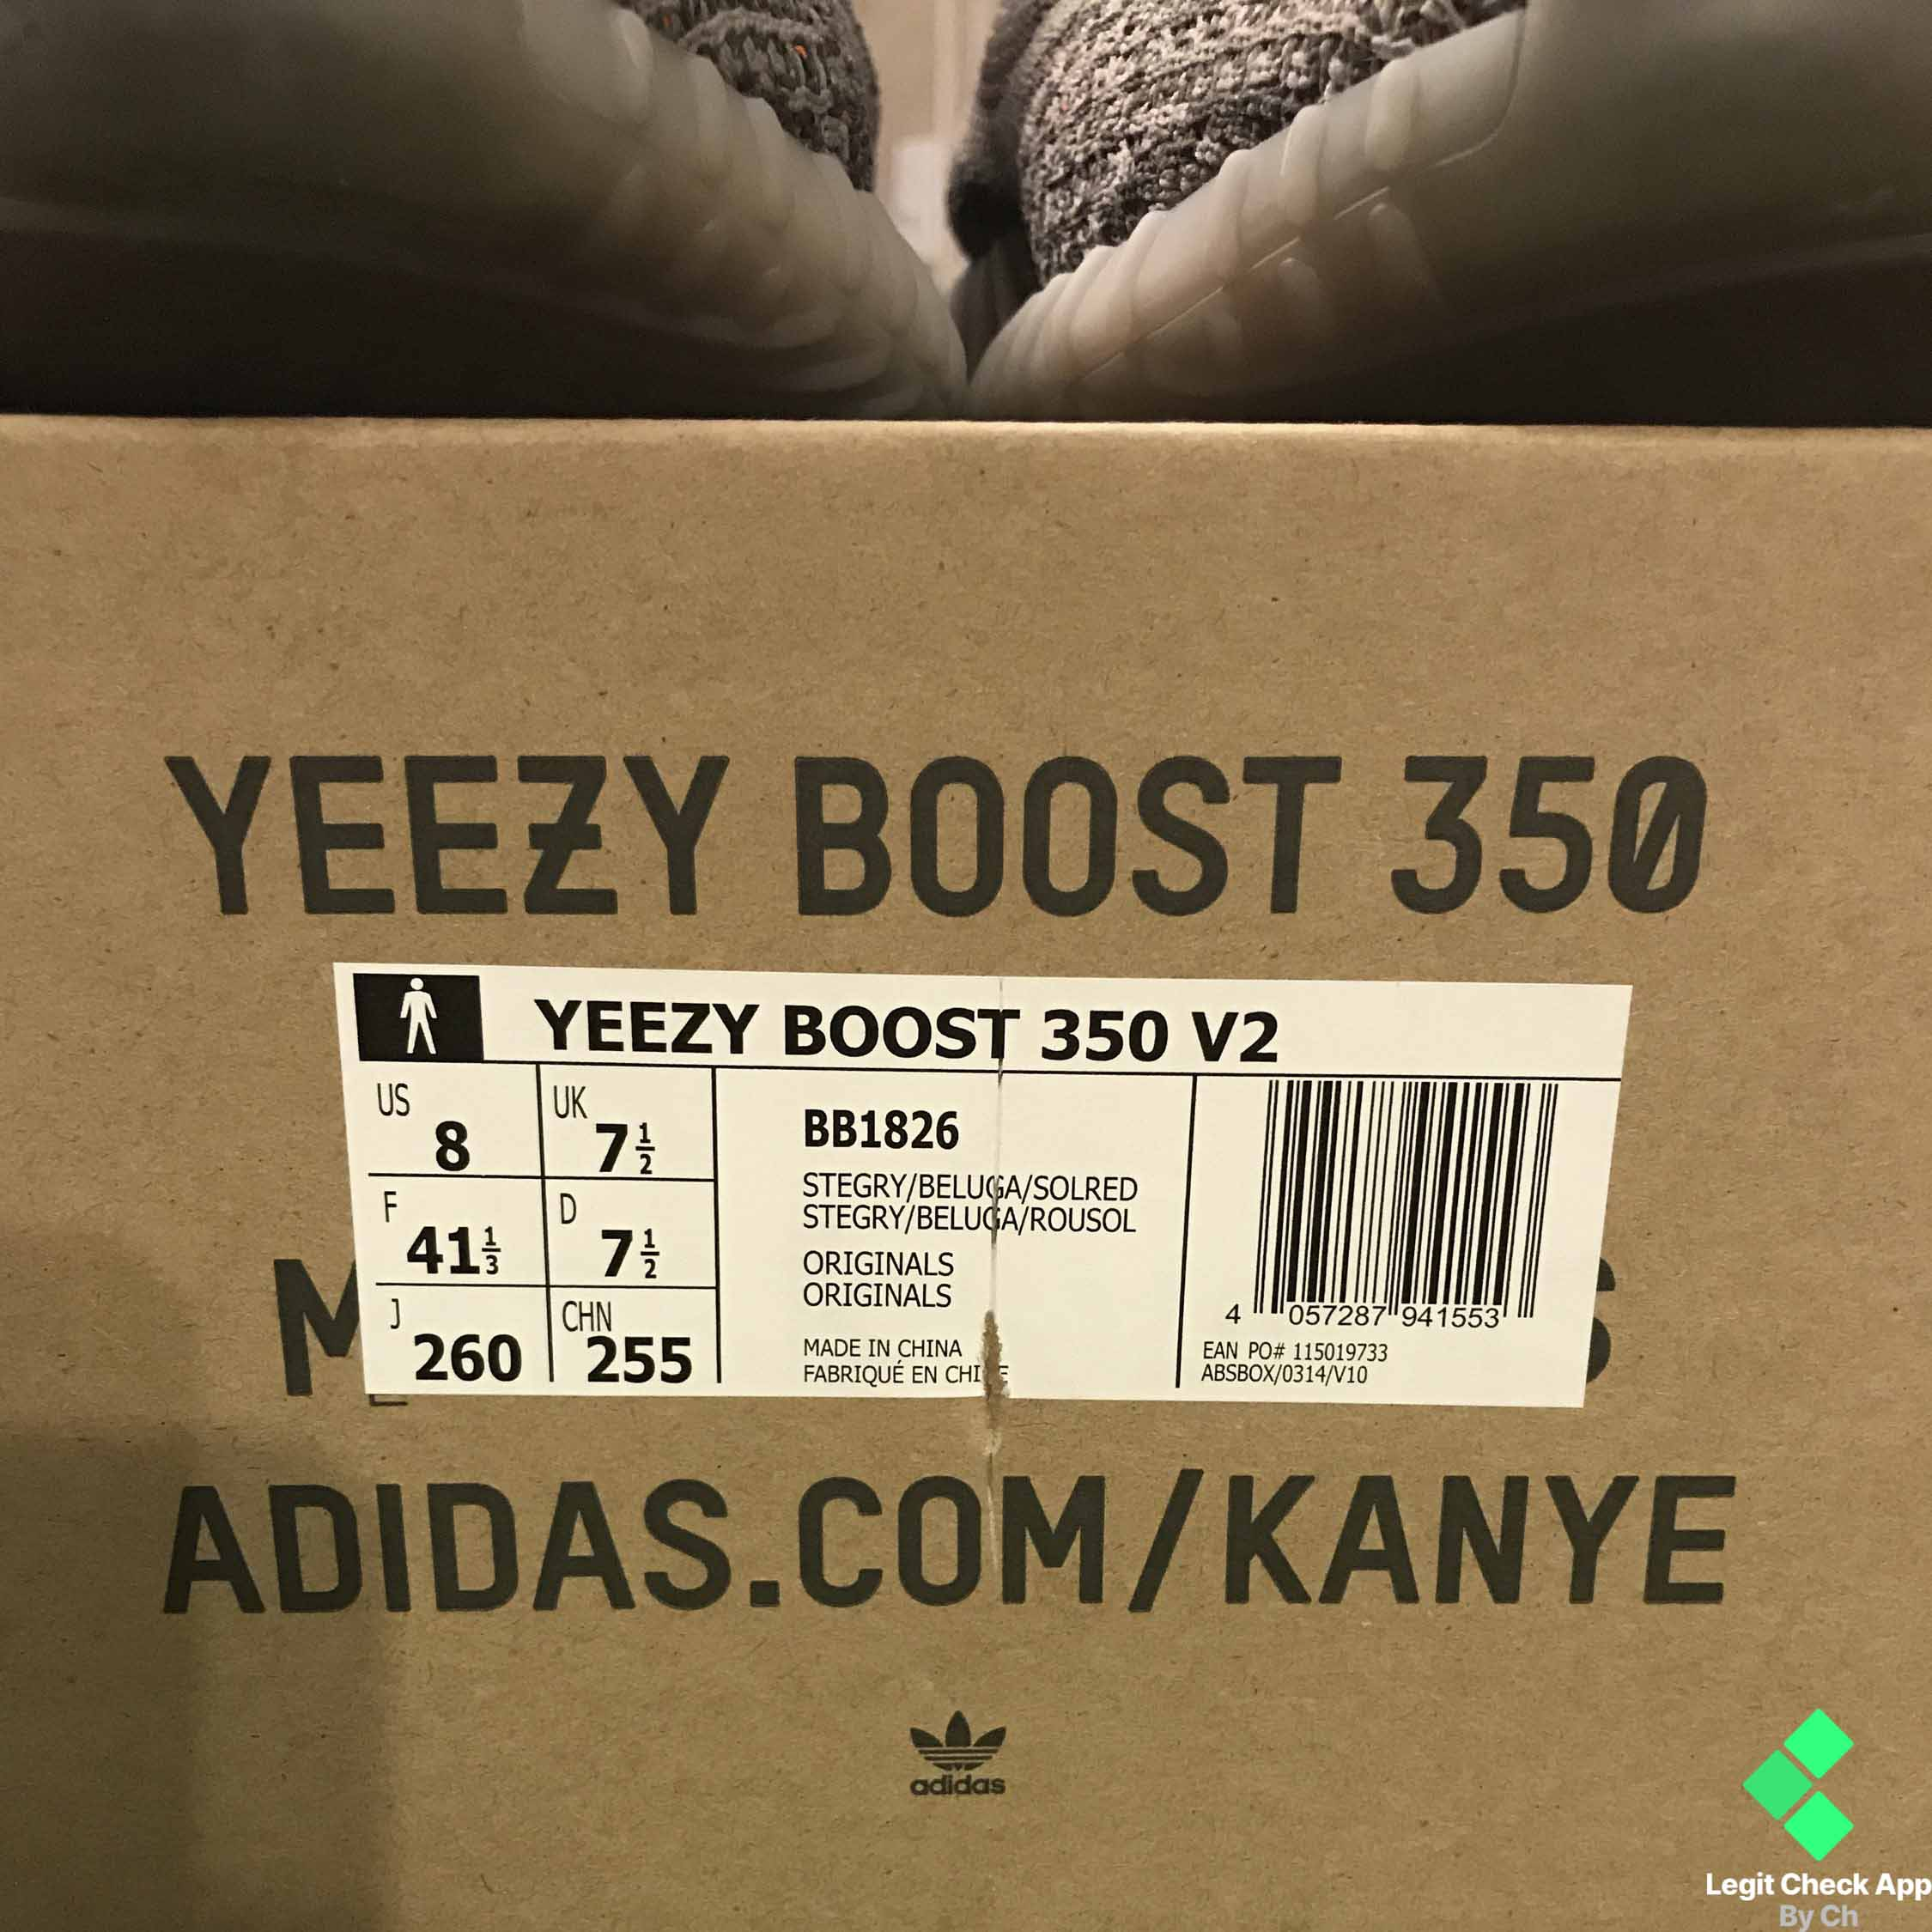barcode: (1238, 1063, 1555, 1334)
